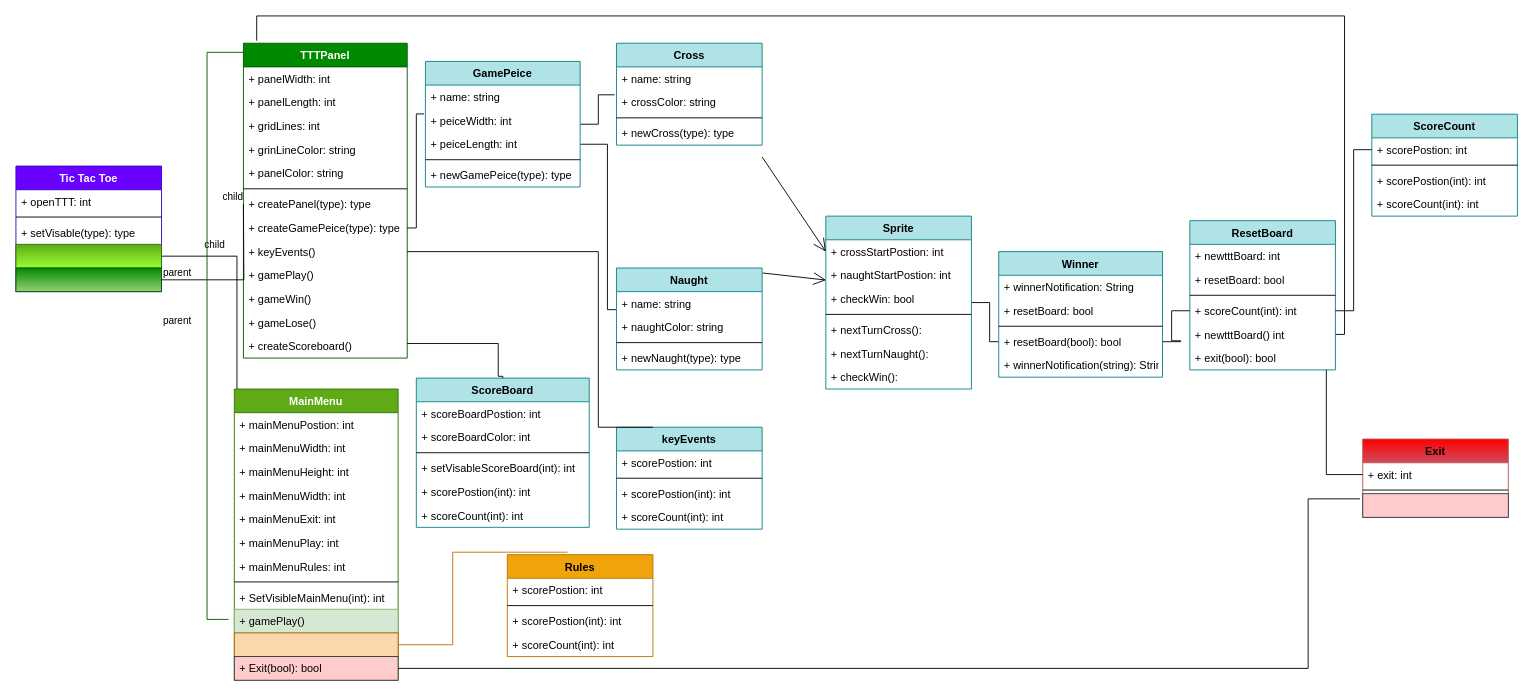
Some shapes in this 1533 by 699 pixel diagram are drawn without their labels. The centre of each missing label's shape, as x and y in pixels:
+ addTTTPanel(type): type: (x=88, y=279)
+ exit(int): int: (x=1435, y=505)
+ mainMethod(type): type: (x=88, y=255)
+ rules(int): int: (x=315, y=644)
